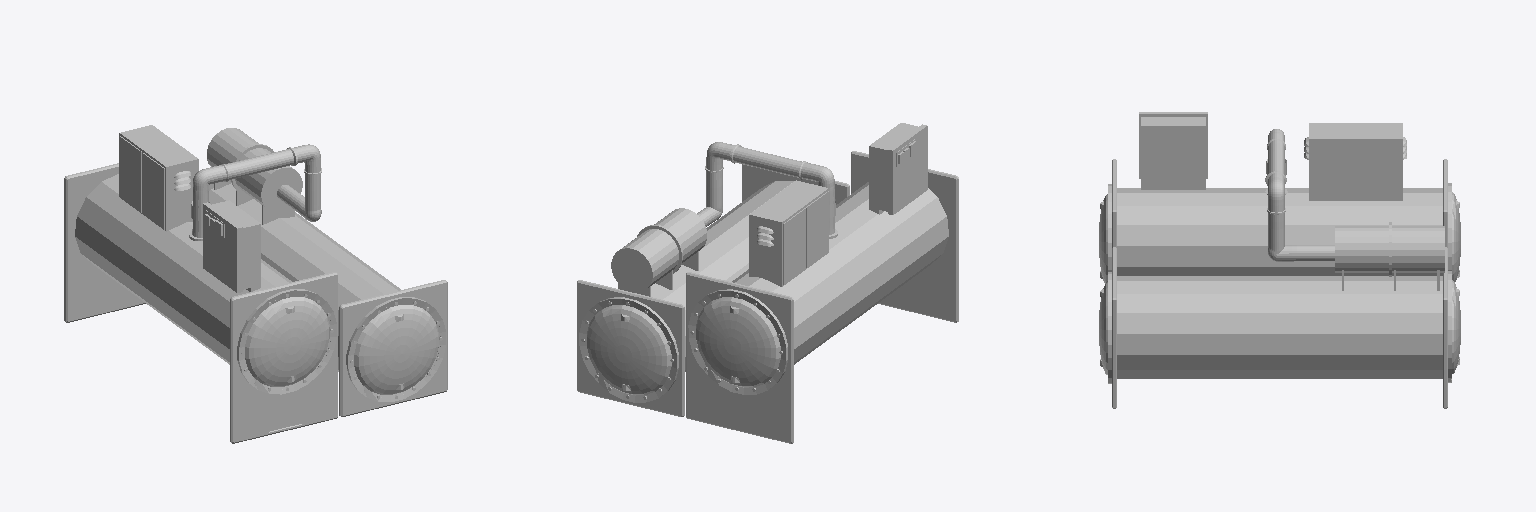
The model's file is Chiller.obj.
The picture shows the model from 3 angles: view 1: azimuth 30°, elevation 25°; view 2: azimuth 150°, elevation 25°; view 3: azimuth 270°, elevation 25°; orthographic projection.
Visible parts, largest first — view 1: Chiller.obj; view 2: Chiller.obj; view 3: Chiller.obj.
Part boxes in pixels (bbox=[...]): Chiller.obj: bbox=[64, 125, 447, 443]; Chiller.obj: bbox=[577, 123, 958, 443]; Chiller.obj: bbox=[1099, 112, 1460, 408].
Bounding box in the file's own units: 2.36 × 2.1 × 3.42.